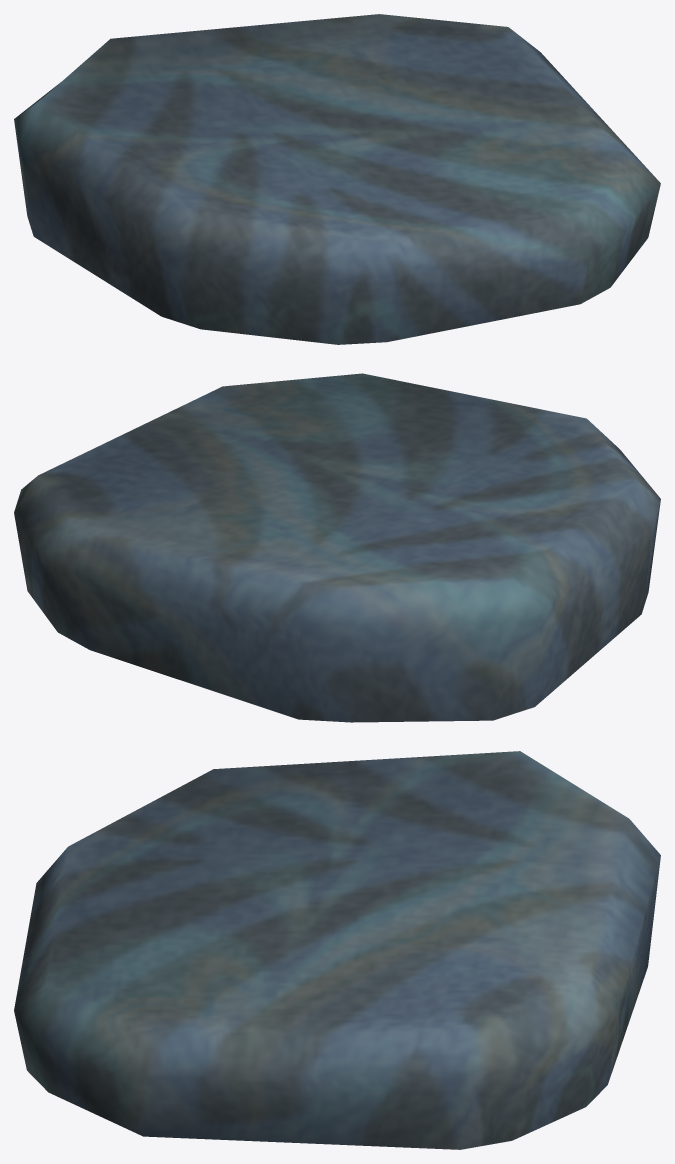
Rendered from BlockTile_E.dae.
3 views of the same model, one above another, from view 1: azimuth 30°, elevation 25°; view 2: azimuth 150°, elevation 25°; view 3: azimuth 270°, elevation 25° (orthographic). The views are drawn at different scales.
Parts seen in each view (by area): view 1: BlockTile_E; view 2: BlockTile_E; view 3: BlockTile_E.
Boxes of the visible parts, x1,y1,x2,y2 form: BlockTile_E: (14,14,660,344); BlockTile_E: (14,373,660,722); BlockTile_E: (14,751,660,1149).
Size of what is drawn, in the model's own units: 92.03 by 21.21 by 90.
